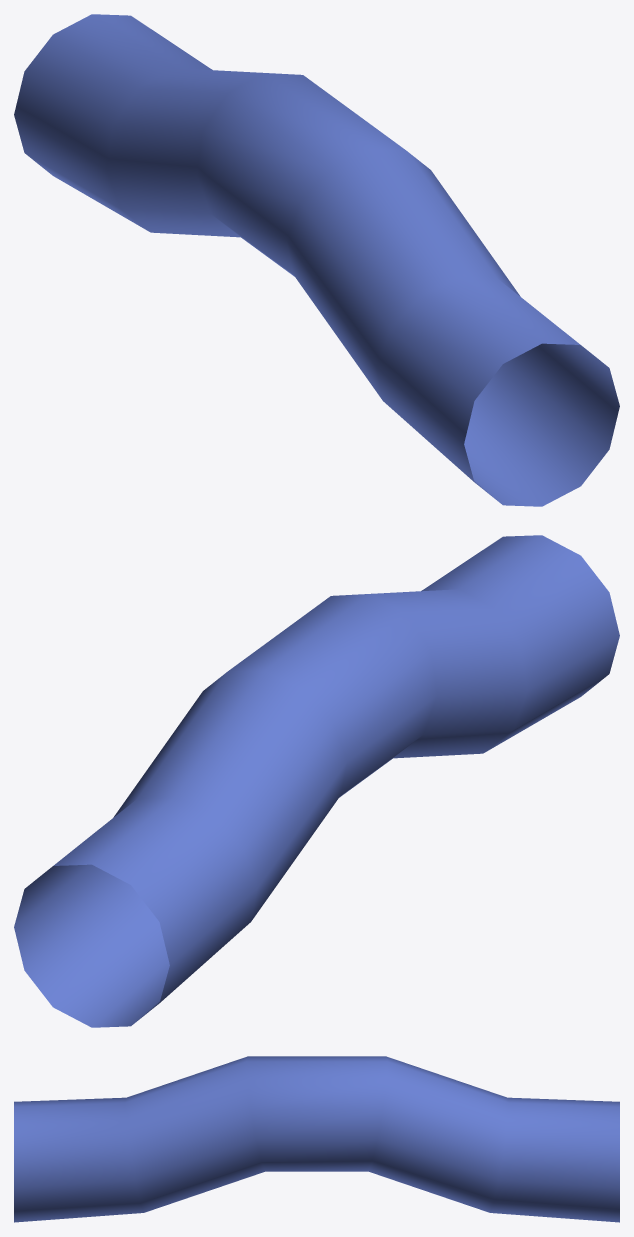
The model's file is pipe-curved1.fbx.
The picture shows the model from 3 angles, top to bottom: view 1: azimuth 30°, elevation 25°; view 2: azimuth 150°, elevation 25°; view 3: azimuth 270°, elevation 25°; orthographic projection. The views are drawn at different scales.
Parts seen in each view (by area): view 1: Cylinder_004; view 2: Cylinder_004; view 3: Cylinder_004.
Boxes of the visible parts, x1,y1,x2,y2 form: Cylinder_004: (14, 14, 619, 506); Cylinder_004: (14, 535, 619, 1027); Cylinder_004: (14, 1056, 619, 1222).
Size of the model in its own units: 0.4 by 0.5654 by 2.
